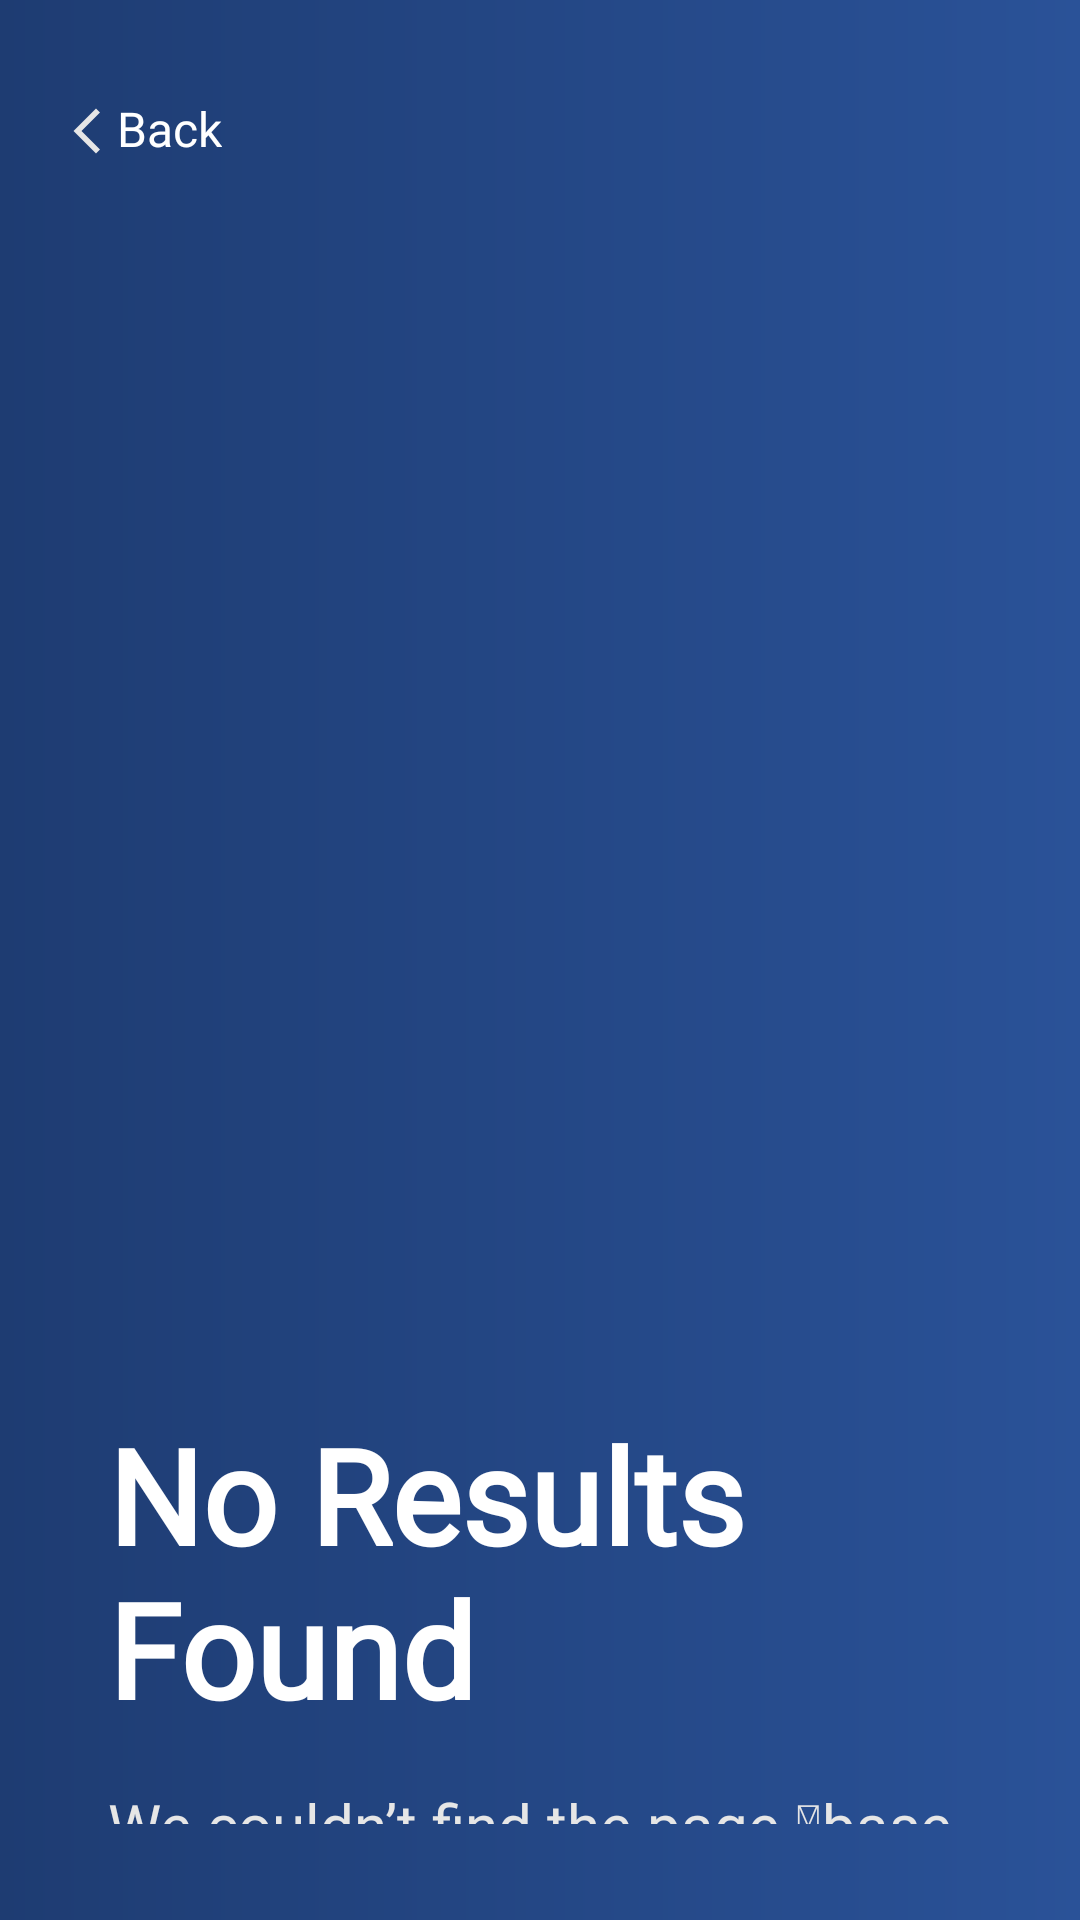

Icon click points for this 1080×1920 phone screenshot, format point (x, y):
arrow left: point (87, 131)
